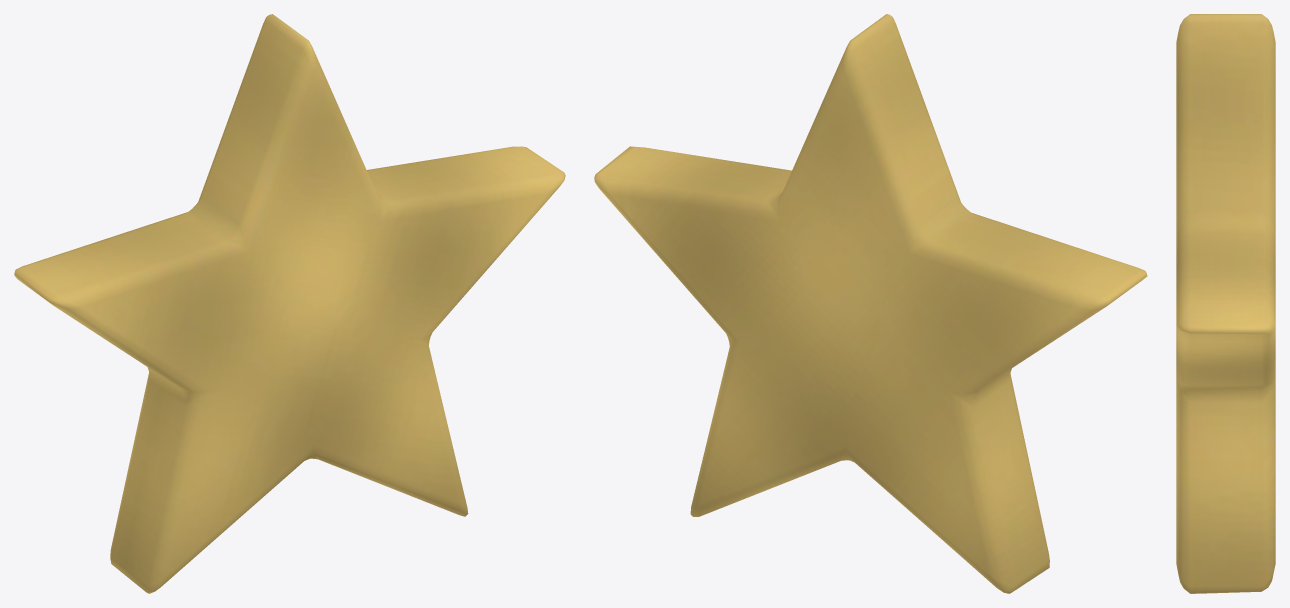
Rendered from star_pickup.glb.
3 renders of one model, left to right at view 1: azimuth 30°, elevation 25°; view 2: azimuth 150°, elevation 25°; view 3: azimuth 270°, elevation 25°, orthographic. The views are drawn at different scales.
Parts seen in each view (by area): view 1: star; view 2: star; view 3: star.
Boxes of the visible parts, x1,y1,x2,y2 form: star: [14, 14, 565, 593]; star: [594, 14, 1147, 593]; star: [1176, 14, 1275, 593].
Bounding box in the file's own units: 1.18 × 1.12 × 0.2.
1 material, 1 textured.
